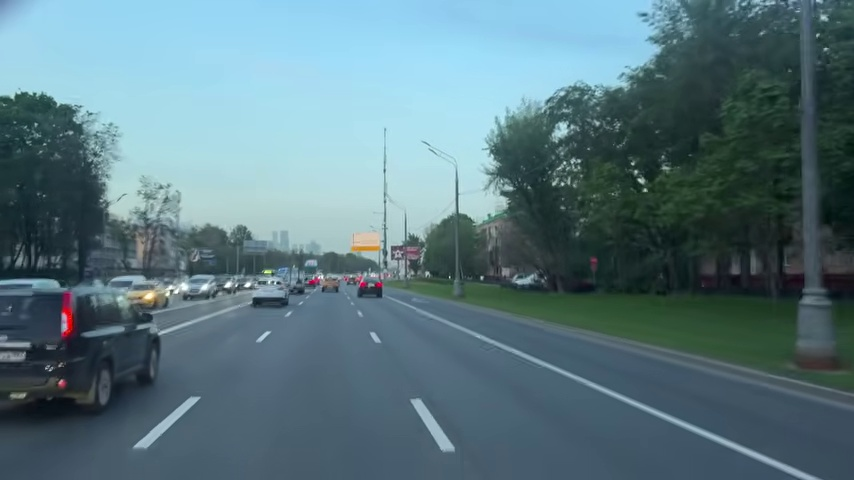apagada: (419, 140, 438, 158)
